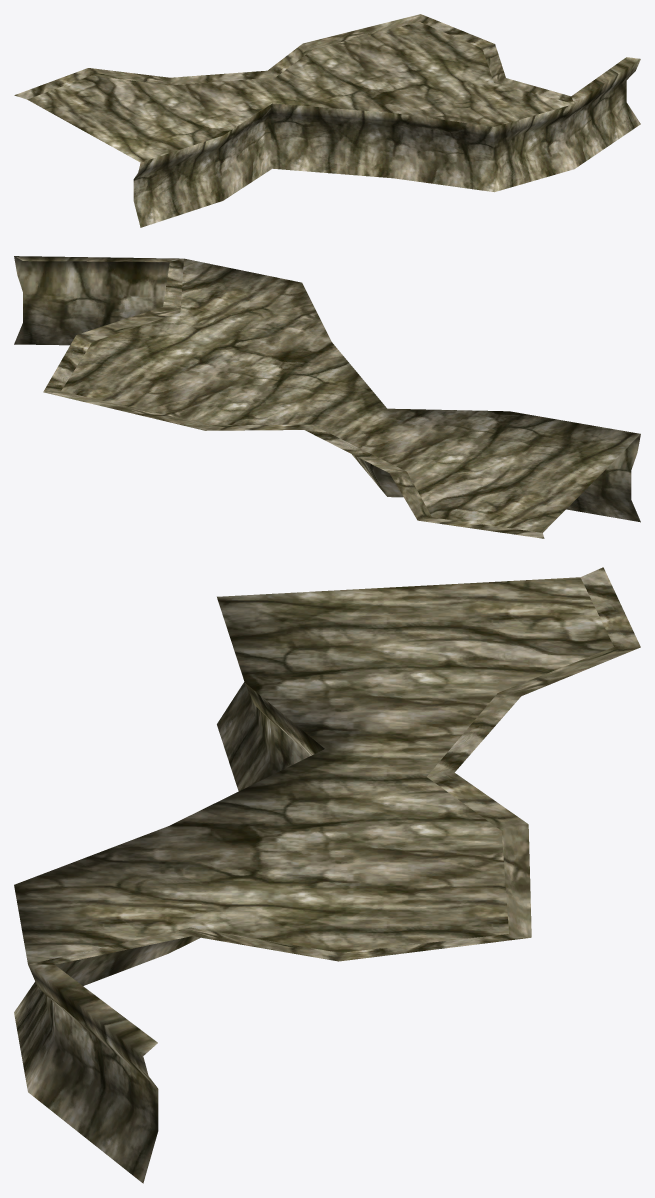
File: CB_NEWPLAYSURFACE_CB_PLAYSURFACE111.fbx
3 renders of one model, top to bottom at view 1: azimuth 30°, elevation 25°; view 2: azimuth 150°, elevation 25°; view 3: azimuth 270°, elevation 25°, orthographic. The views are drawn at different scales.
Visible parts, largest first — view 1: CB_NEWPLAYSURFACE_CB_PLAYSURFACE111; view 2: CB_NEWPLAYSURFACE_CB_PLAYSURFACE111; view 3: CB_NEWPLAYSURFACE_CB_PLAYSURFACE111.
Part boxes in pixels (x1=…): CB_NEWPLAYSURFACE_CB_PLAYSURFACE111: x1=14, y1=14, x2=640, y2=227; CB_NEWPLAYSURFACE_CB_PLAYSURFACE111: x1=14, y1=256, x2=640, y2=538; CB_NEWPLAYSURFACE_CB_PLAYSURFACE111: x1=14, y1=567, x2=640, y2=1183.
Bounding box in the file's own units: 244972 × 30759 × 133617.
2 materials, 2 textured.
